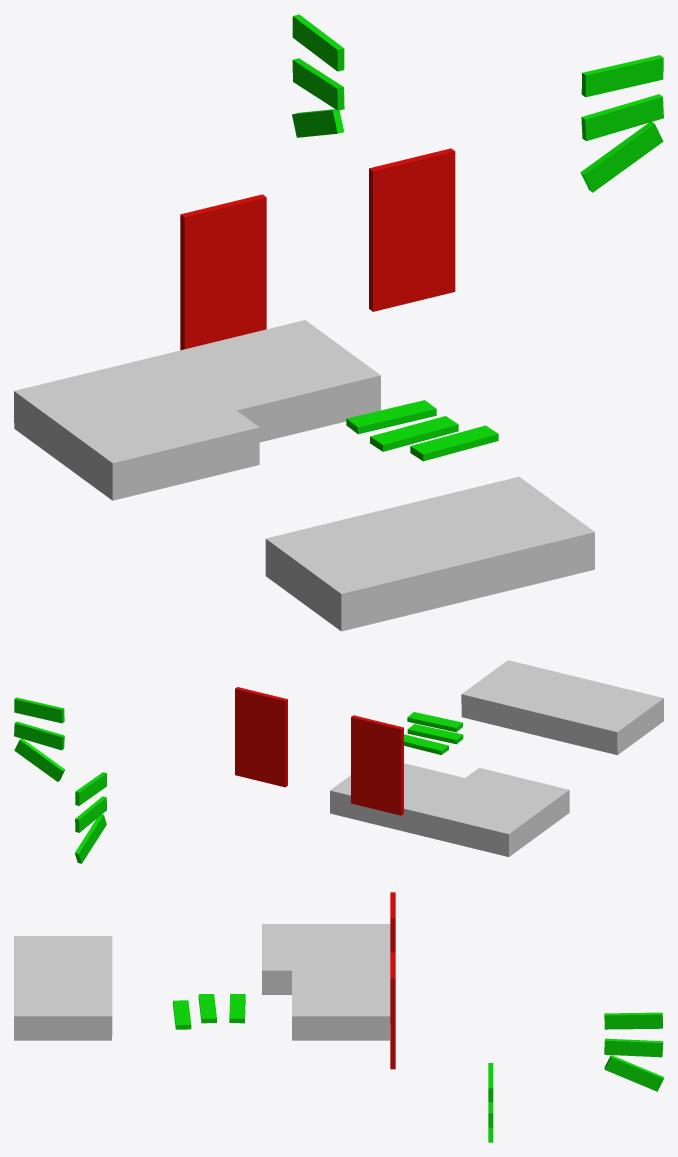
The model's file is Blocky_NorthRooms_Gameplay.fbx.
The picture shows the model from 3 angles, top to bottom: view 1: azimuth 30°, elevation 25°; view 2: azimuth 150°, elevation 25°; view 3: azimuth 270°, elevation 25°; orthographic projection. The views are drawn at different scales.
Visible parts, largest first — view 1: Essai_Assemblage_034.001, Essai_Assemblage_034.008, Essai_Assemblage_034.007, Cube.668, Cube.672, Essai_Assemblage_034.005, Cube.713, Cube.714, Cube.715, Cube.707, Cube.706, Cube.708 (+3 smaller); view 2: Essai_Assemblage_034.001, Essai_Assemblage_034.008, Cube.672, Cube.668, Essai_Assemblage_034.007, Essai_Assemblage_034.005, Cube.713, Cube.714, Cube.715, Cube.706, Cube.708, Cube.710 (+3 smaller); view 3: Essai_Assemblage_034.007, Essai_Assemblage_034.001, Essai_Assemblage_034.008, Essai_Assemblage_034.005, Cube.710, Cube.711, Cube.712, Cube.668, Cube.708, Cube.706, Cube.707.
Boxes of the visible parts, bbox=[...] form: Essai_Assemblage_034.001: bbox=[14, 355, 259, 500]; Essai_Assemblage_034.008: bbox=[265, 494, 524, 631]; Essai_Assemblage_034.007: bbox=[161, 320, 380, 442]; Cube.668: bbox=[369, 148, 455, 311]; Cube.672: bbox=[180, 194, 266, 350]; Essai_Assemblage_034.005: bbox=[449, 476, 594, 586]; Cube.713: bbox=[580, 122, 663, 192]; Cube.714: bbox=[581, 94, 663, 141]; Cube.715: bbox=[581, 55, 663, 97]; Cube.707: bbox=[346, 400, 436, 434]; Cube.706: bbox=[370, 416, 458, 451]; Cube.708: bbox=[410, 425, 498, 461]; Essai_Assemblage_034.001: bbox=[418, 767, 569, 856]; Essai_Assemblage_034.008: bbox=[504, 670, 663, 754]; Cube.672: bbox=[351, 715, 403, 815]; Cube.668: bbox=[235, 687, 287, 787]; Essai_Assemblage_034.007: bbox=[330, 763, 464, 834]; Essai_Assemblage_034.005: bbox=[461, 660, 550, 727]; Cube.713: bbox=[14, 738, 65, 781]; Cube.714: bbox=[14, 721, 64, 750]; Cube.715: bbox=[14, 697, 64, 723]; Cube.706: bbox=[407, 724, 463, 744]; Cube.708: bbox=[407, 712, 462, 732]; Cube.710: bbox=[75, 814, 106, 863]; Essai_Assemblage_034.007: bbox=[292, 970, 390, 1040]; Essai_Assemblage_034.001: bbox=[262, 924, 390, 994]; Essai_Assemblage_034.008: bbox=[14, 936, 112, 993]; Essai_Assemblage_034.005: bbox=[14, 994, 112, 1040]; Cube.710: bbox=[604, 1055, 663, 1091]; Cube.711: bbox=[604, 1038, 663, 1057]; Cube.712: bbox=[604, 1012, 662, 1029]; Cube.668: bbox=[390, 952, 395, 1069]; Cube.708: bbox=[173, 1000, 191, 1029]; Cube.706: bbox=[198, 994, 216, 1023]; Cube.707: bbox=[229, 994, 245, 1023].
Bounding box in the file's own units: 3099 × 692 × 3704.
